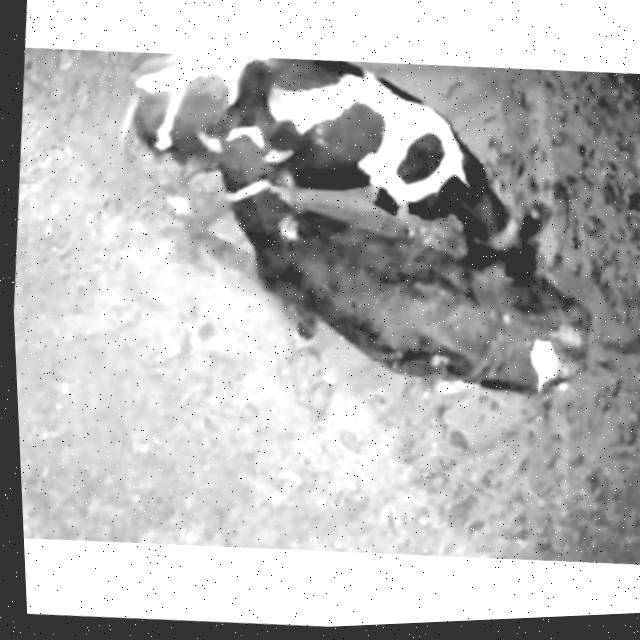propping: (184, 52, 325, 218)
